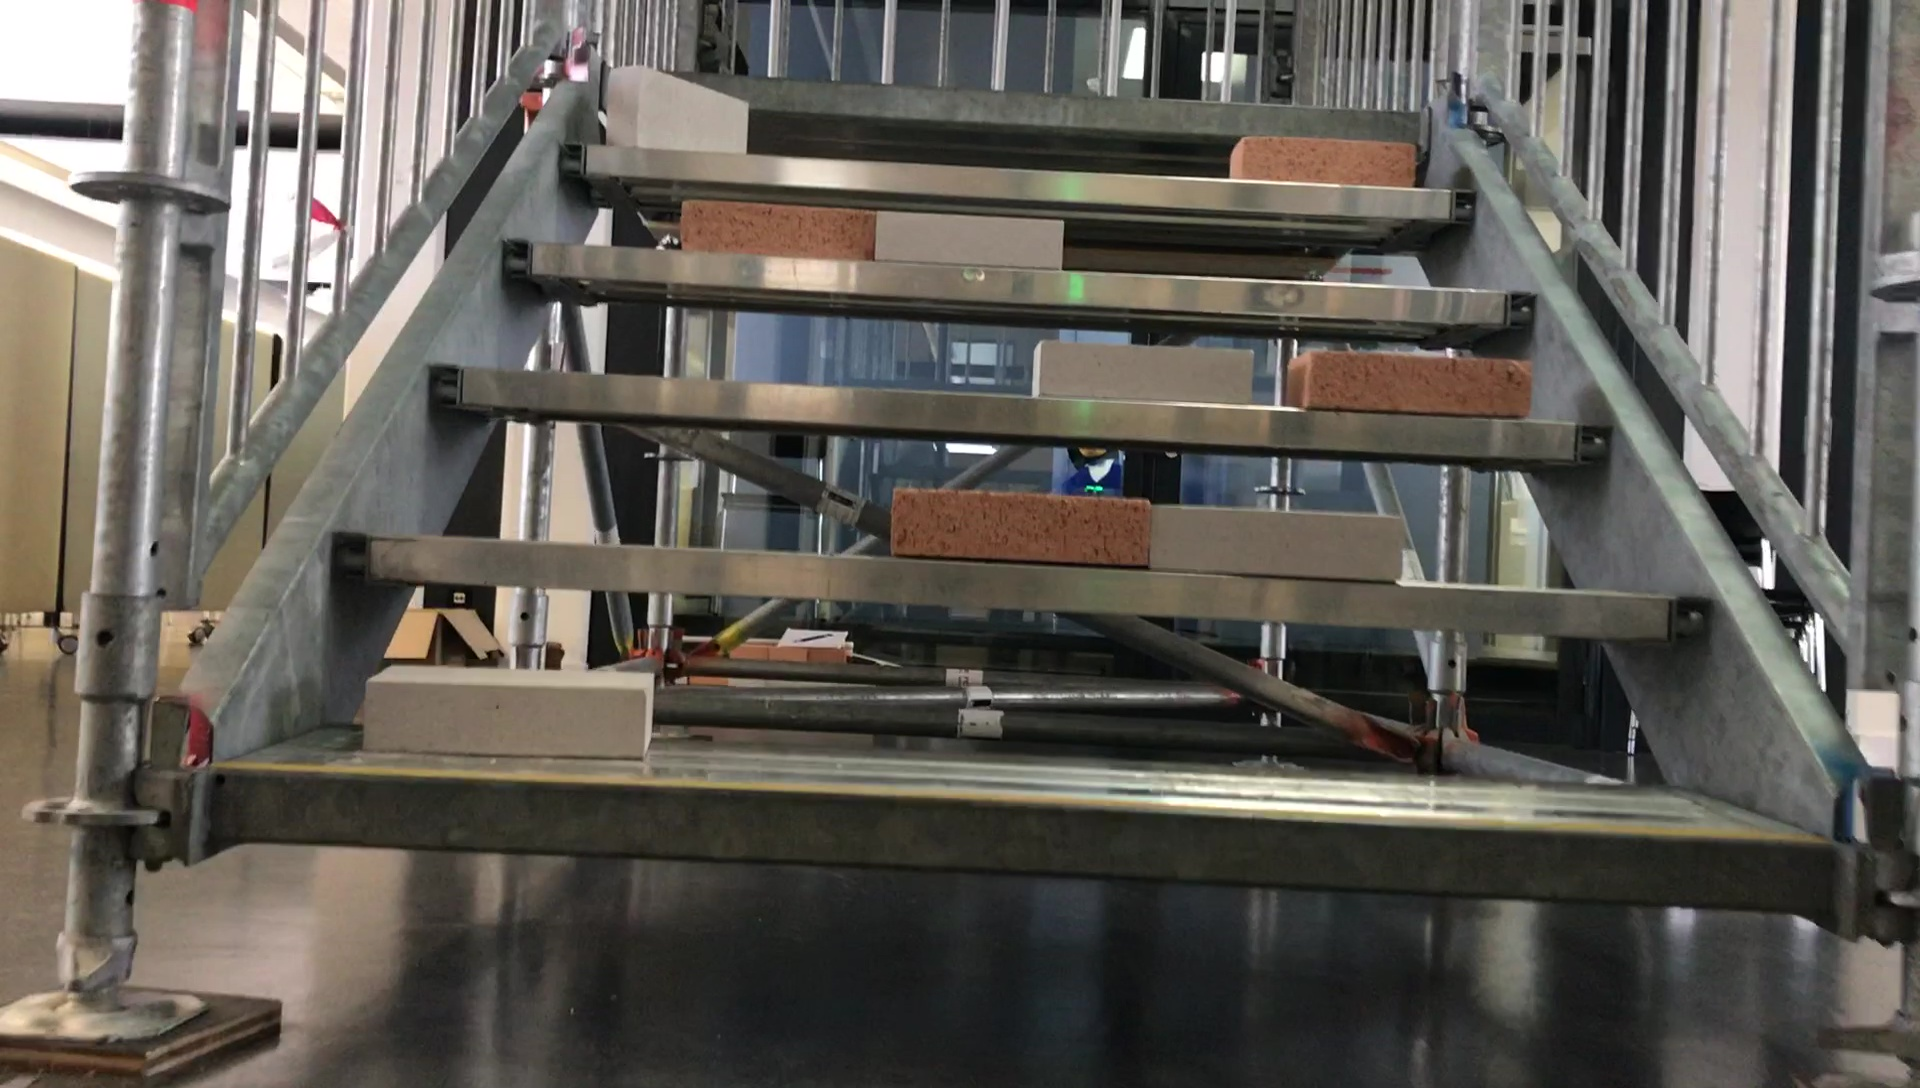brick: (365, 663, 647, 754), (893, 489, 1145, 566), (1150, 505, 1399, 582), (1286, 351, 1532, 415), (1033, 340, 1253, 404), (609, 66, 746, 150), (680, 200, 874, 256), (876, 210, 1060, 268), (1232, 137, 1418, 186)
edge: (207, 770, 1834, 913), (335, 533, 1713, 638), (425, 367, 1611, 463), (502, 243, 1534, 327), (563, 145, 1476, 220), (597, 65, 1432, 140)
steps: (200, 47, 1850, 946)
